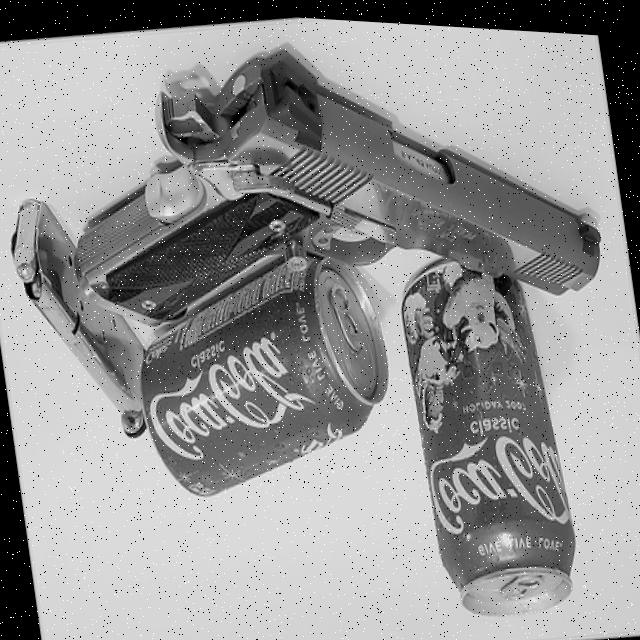pistol: (52, 6, 610, 359)
